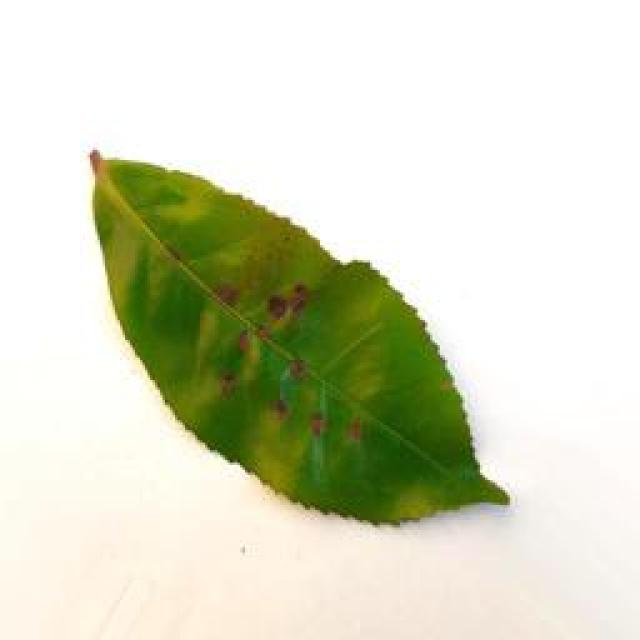Helopeltis: (75, 143, 514, 522)
